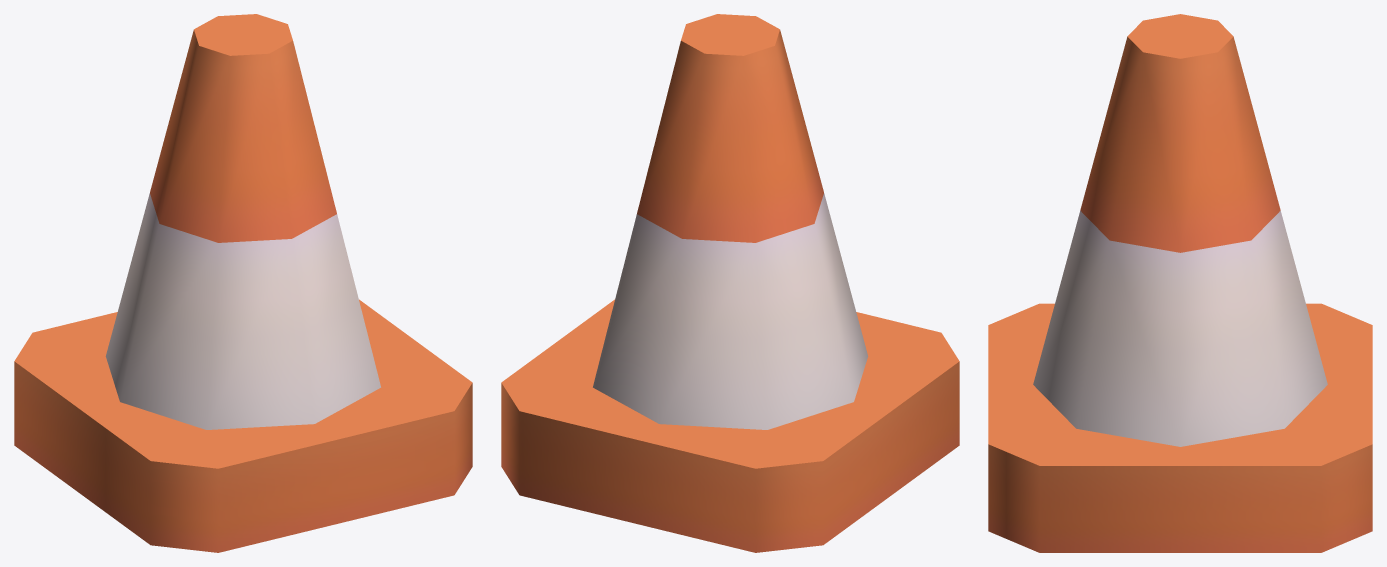
Rendered from road_construction_cone.glb.
3 views of the same model, side by side, from view 1: azimuth 30°, elevation 25°; view 2: azimuth 150°, elevation 25°; view 3: azimuth 270°, elevation 25° (orthographic). The views are drawn at different scales.
Visible parts, largest first — view 1: construction-cone; view 2: construction-cone; view 3: construction-cone.
Part boxes in pixels (bbox=[...]): construction-cone: bbox=[14, 14, 472, 552]; construction-cone: bbox=[501, 14, 959, 552]; construction-cone: bbox=[988, 14, 1372, 552].
Bounding box in the file's own units: 0.075 × 0.0938 × 0.075.
Materials: 1 (1 with a texture image).
